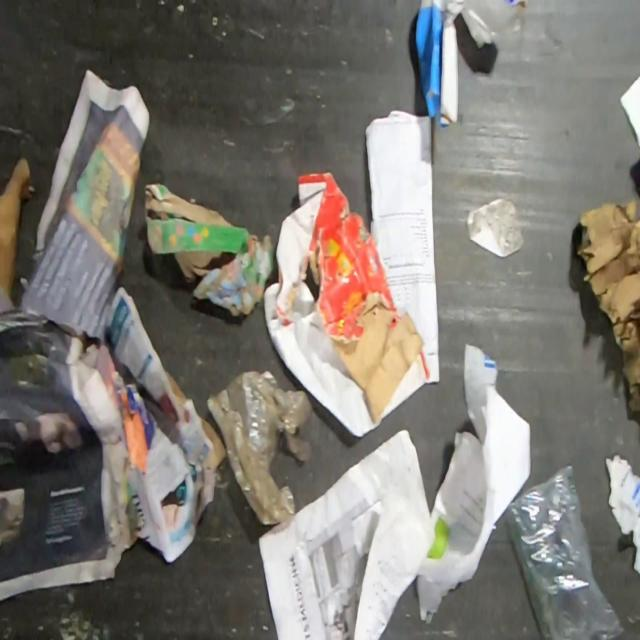cardboard: (262, 169, 430, 438), (573, 192, 640, 416), (122, 423, 217, 564), (141, 181, 260, 285), (414, 0, 499, 128), (95, 343, 157, 471), (0, 152, 37, 300), (200, 418, 226, 471), (166, 369, 186, 400)
soft_plastic: (502, 460, 628, 640), (204, 368, 314, 528)
